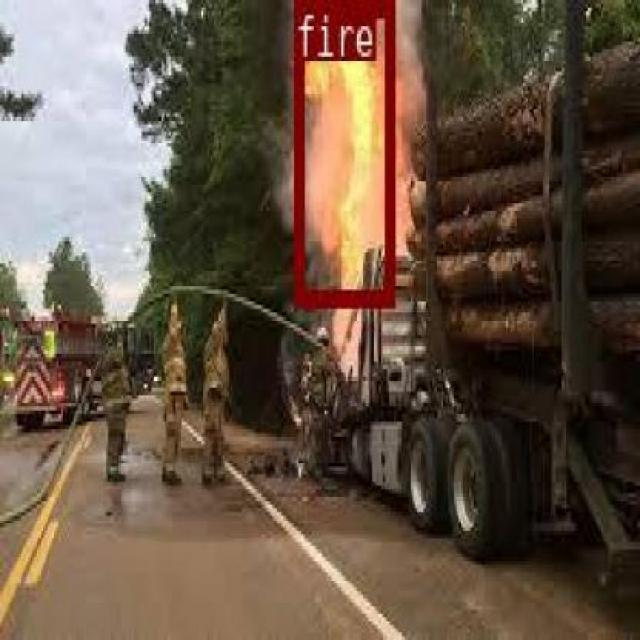Fire: (99, 151, 343, 302)
